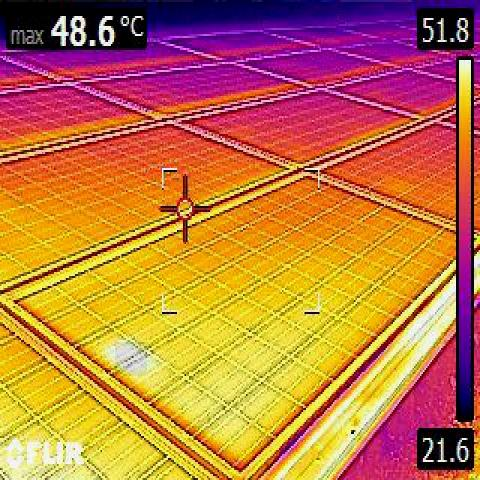fault: (115, 342, 147, 376)
